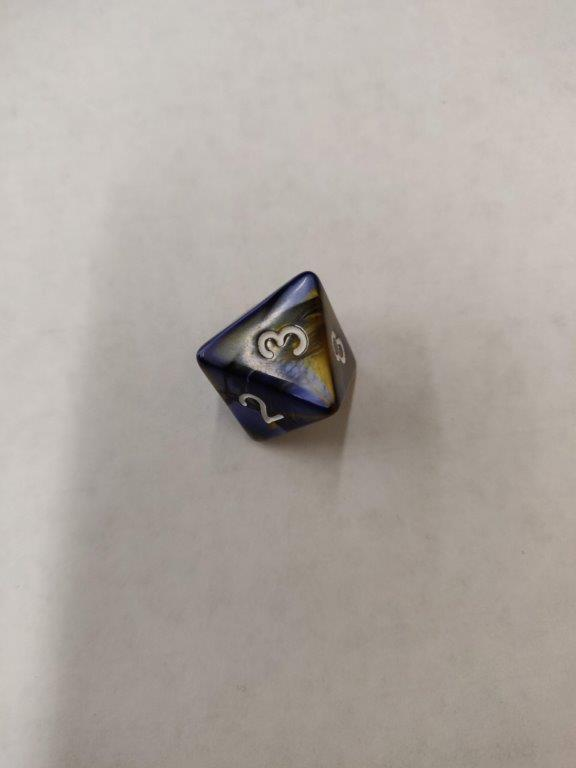d8-3: (196, 269, 357, 446)
